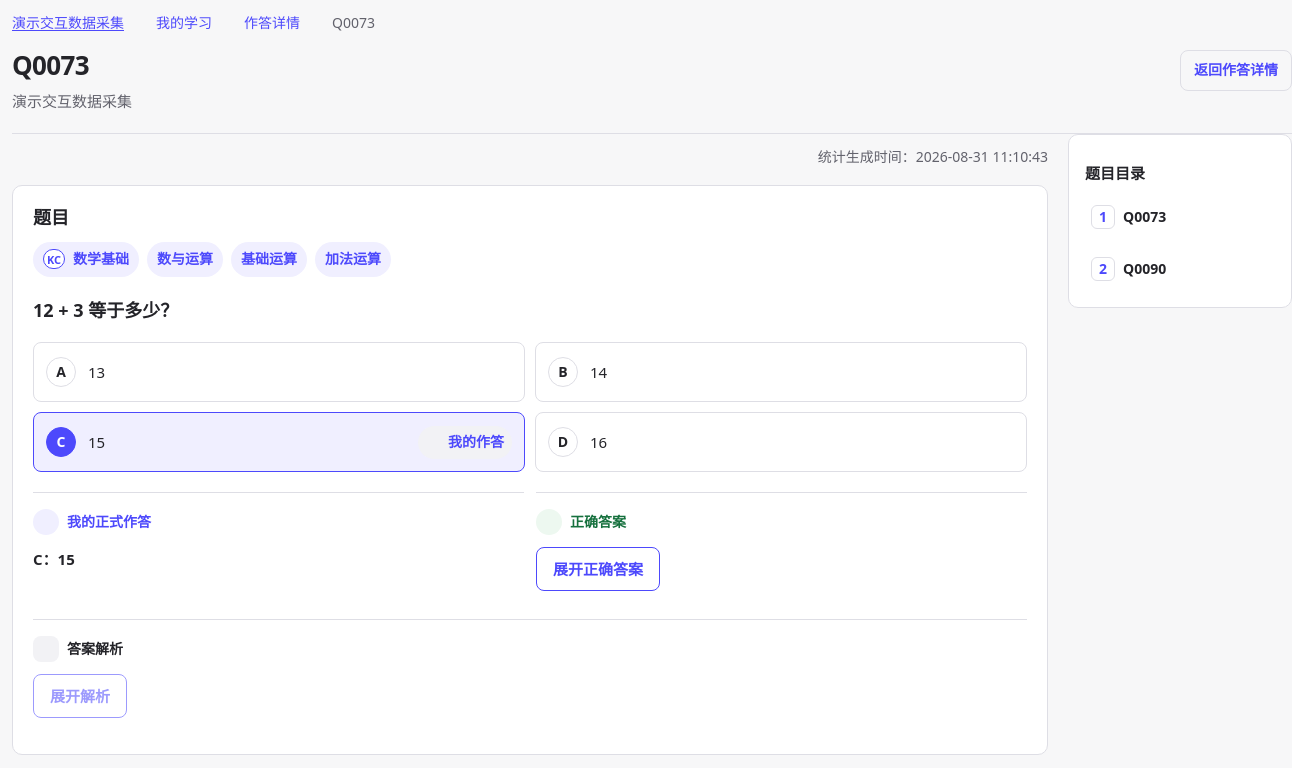
Test: StudentLearningQuestion › capture-v2 logs actual expansion stages against a single detail visit
The width and height of the screenshot is (1292, 768).
Expected: the text "已知 12 + 3 = 15，因此本题若正确答案设为 16，则学生作答与标准答案不一致。" is not shown
Click the button "展开正确答案". click: (598, 570)
box: [536,548,660,592]
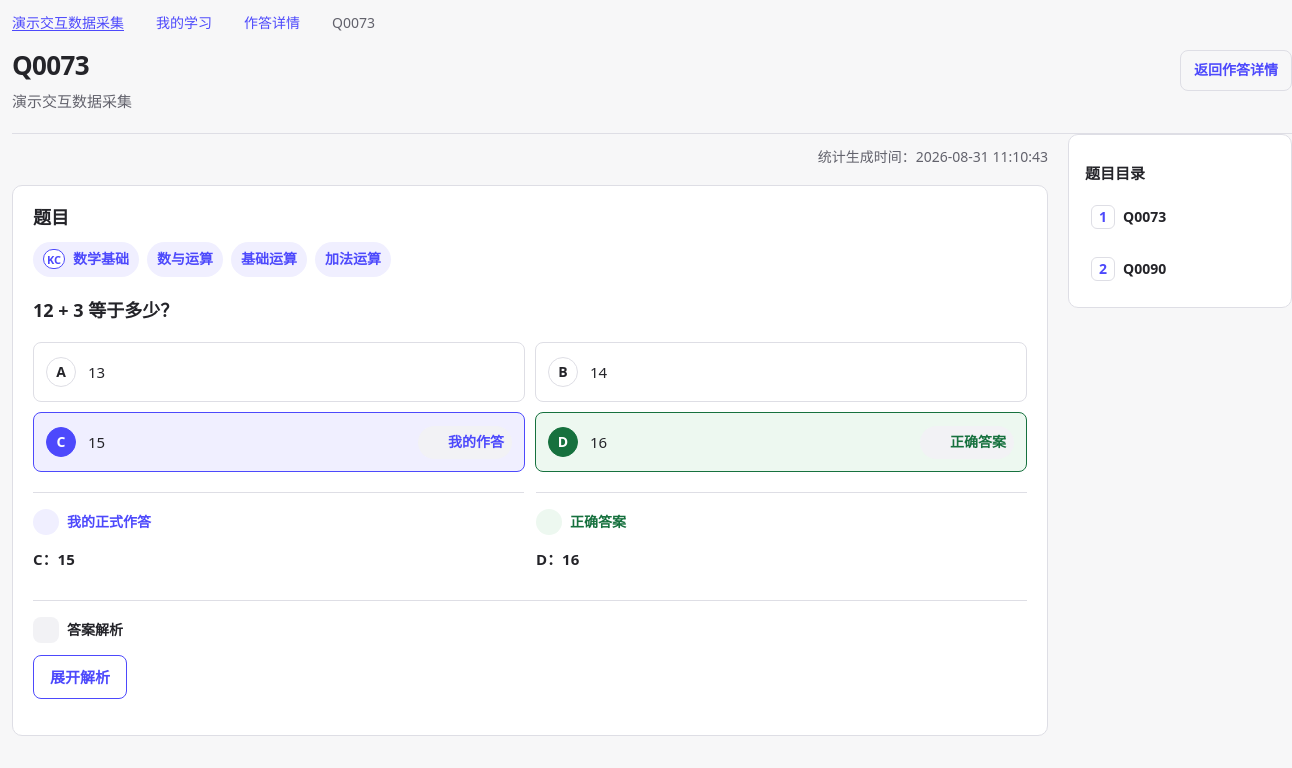
Click the button "展开解析". click: (80, 677)
box: [33,655,127,699]
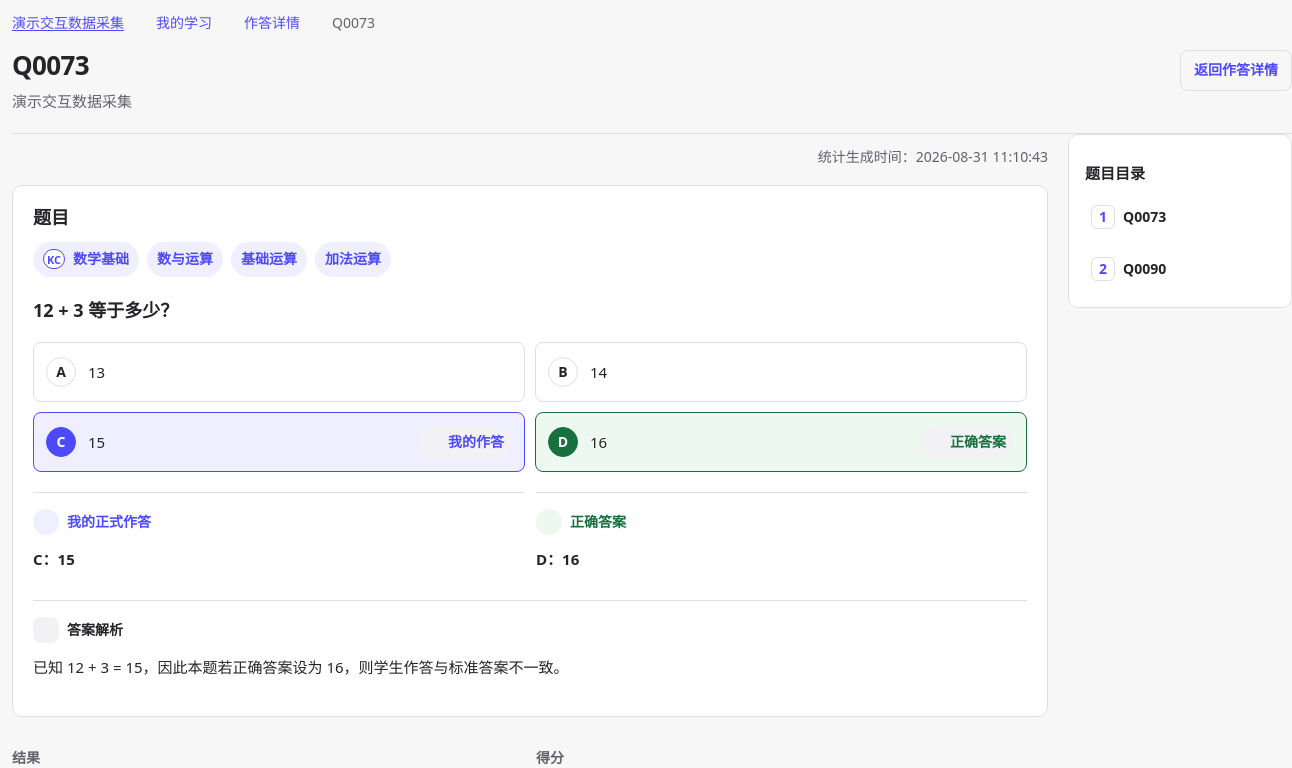
Result: the text "已知 12 + 3 = 15，因此本题若正确答案设为 16，则学生作答与标准答案不一致。" is shown at [33,657,569,677]
